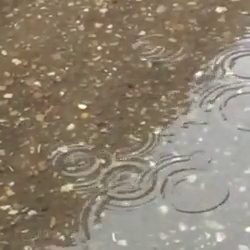drop: (145, 157, 229, 215), (97, 158, 158, 210), (49, 144, 104, 187), (201, 83, 250, 131), (90, 123, 156, 158), (133, 33, 182, 62), (213, 45, 250, 83)
